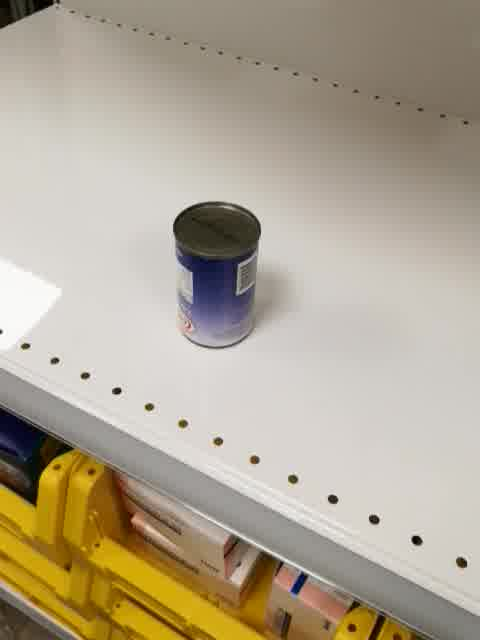sardine: (172, 201, 263, 351)
